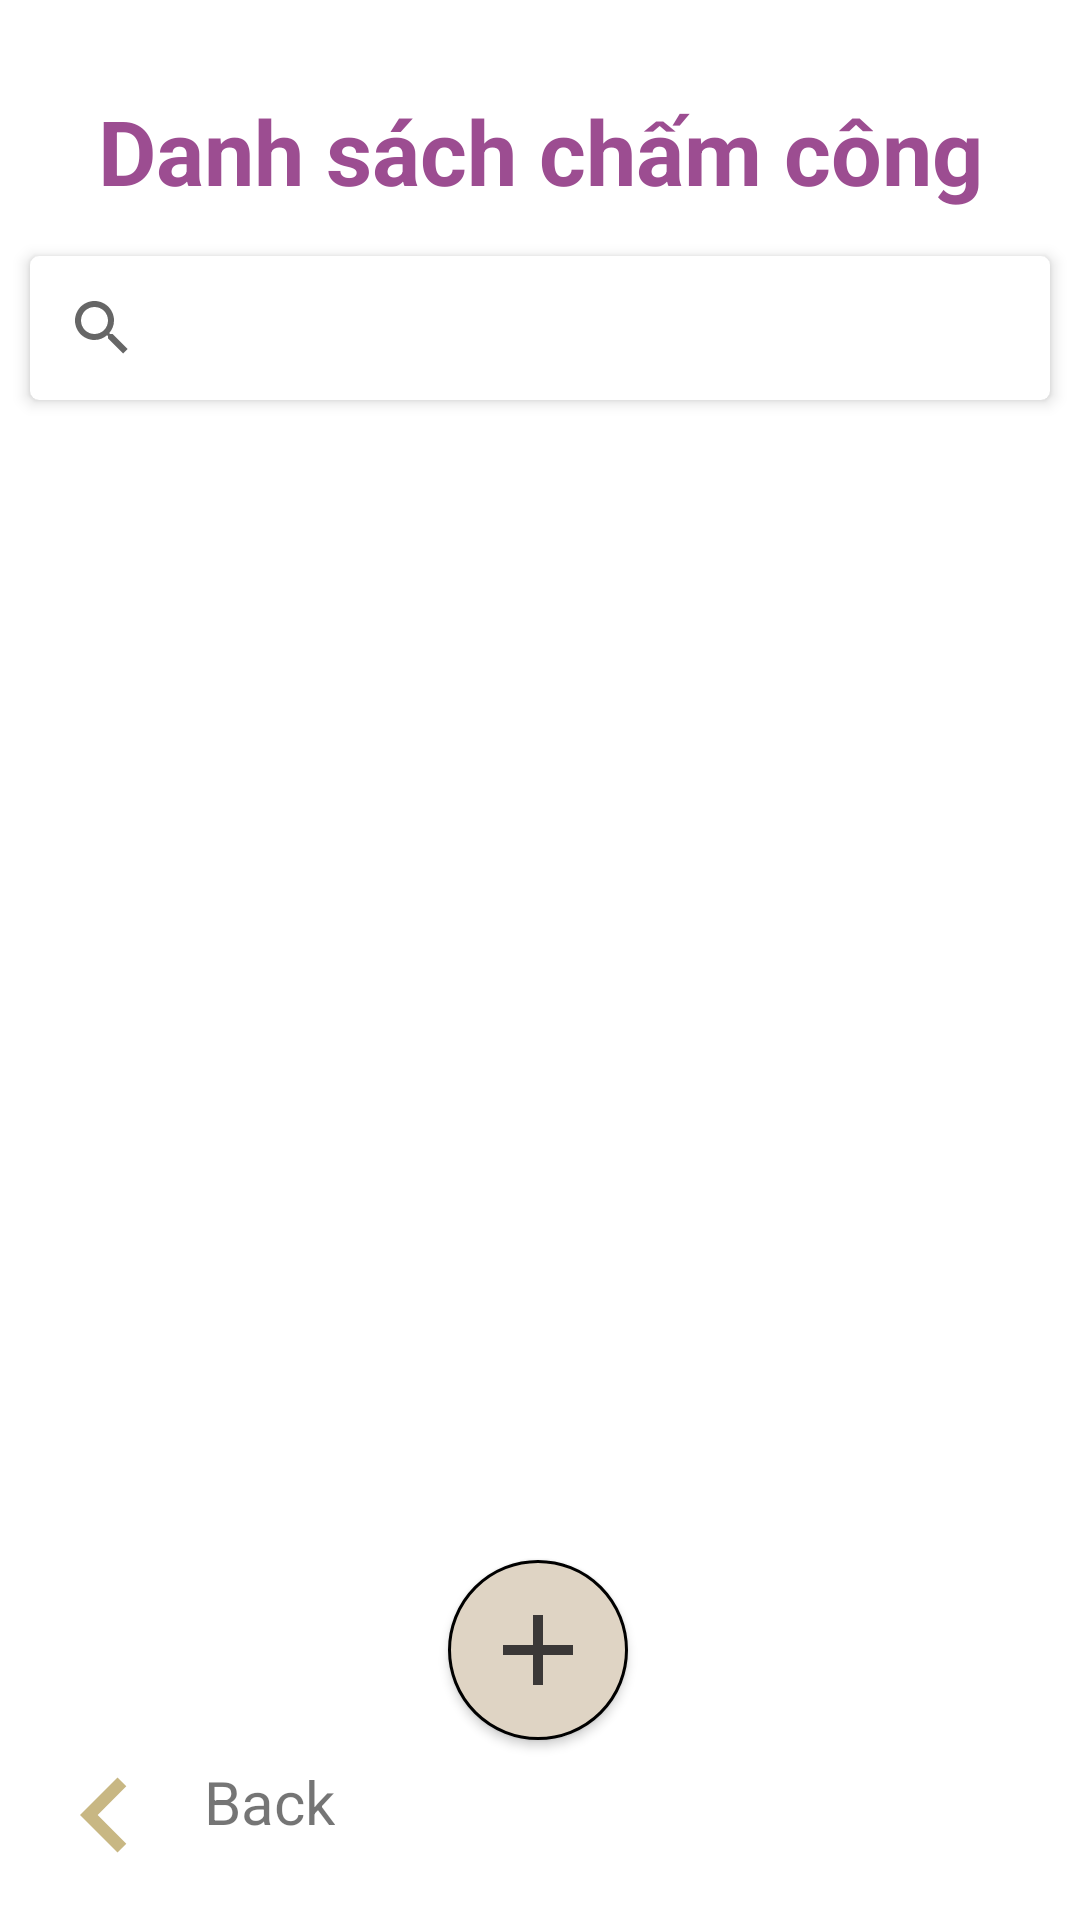

Point at icon controls on the screen. Image size 1080px×1920px, points as [x,y].
chevron left: [103,1815]
